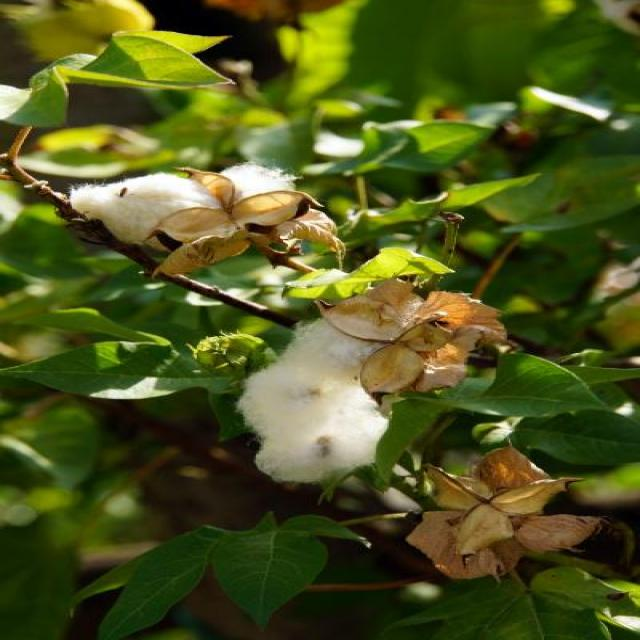Early_blight: (215, 263, 544, 493), (55, 157, 325, 291)
